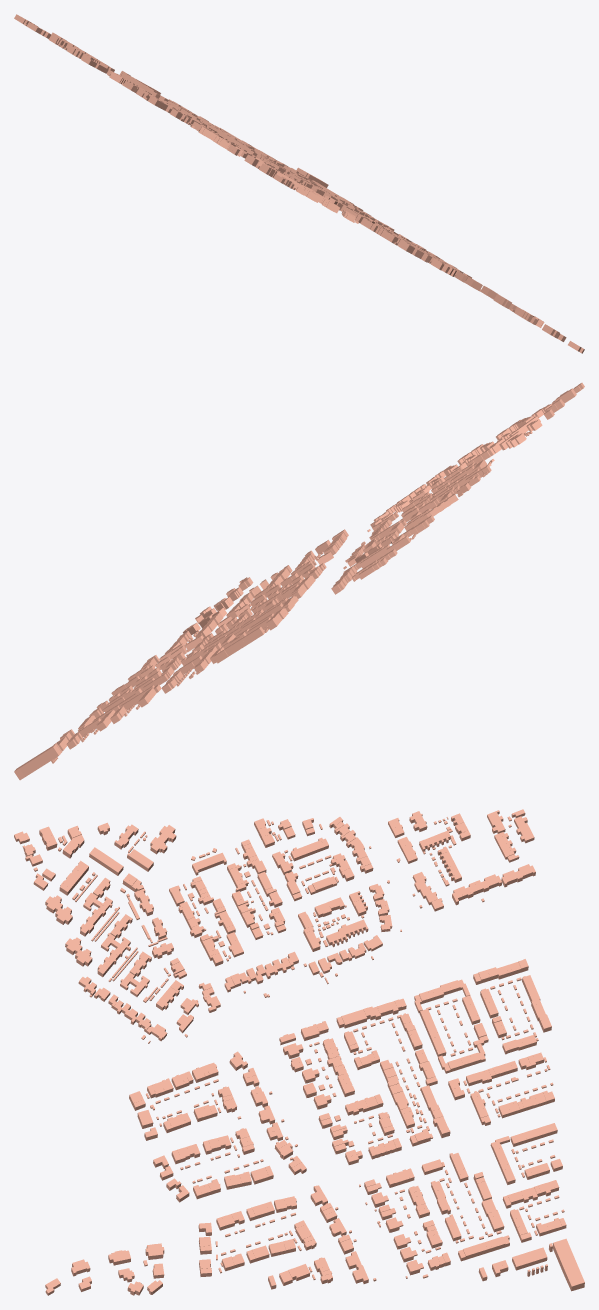
3 views of the same model, one above another, from view 1: azimuth 30°, elevation 25°; view 2: azimuth 150°, elevation 25°; view 3: azimuth 270°, elevation 25° (orthographic). The views are drawn at different scales.
Bounding box in the file's own units: 527 × 391 × 660.
